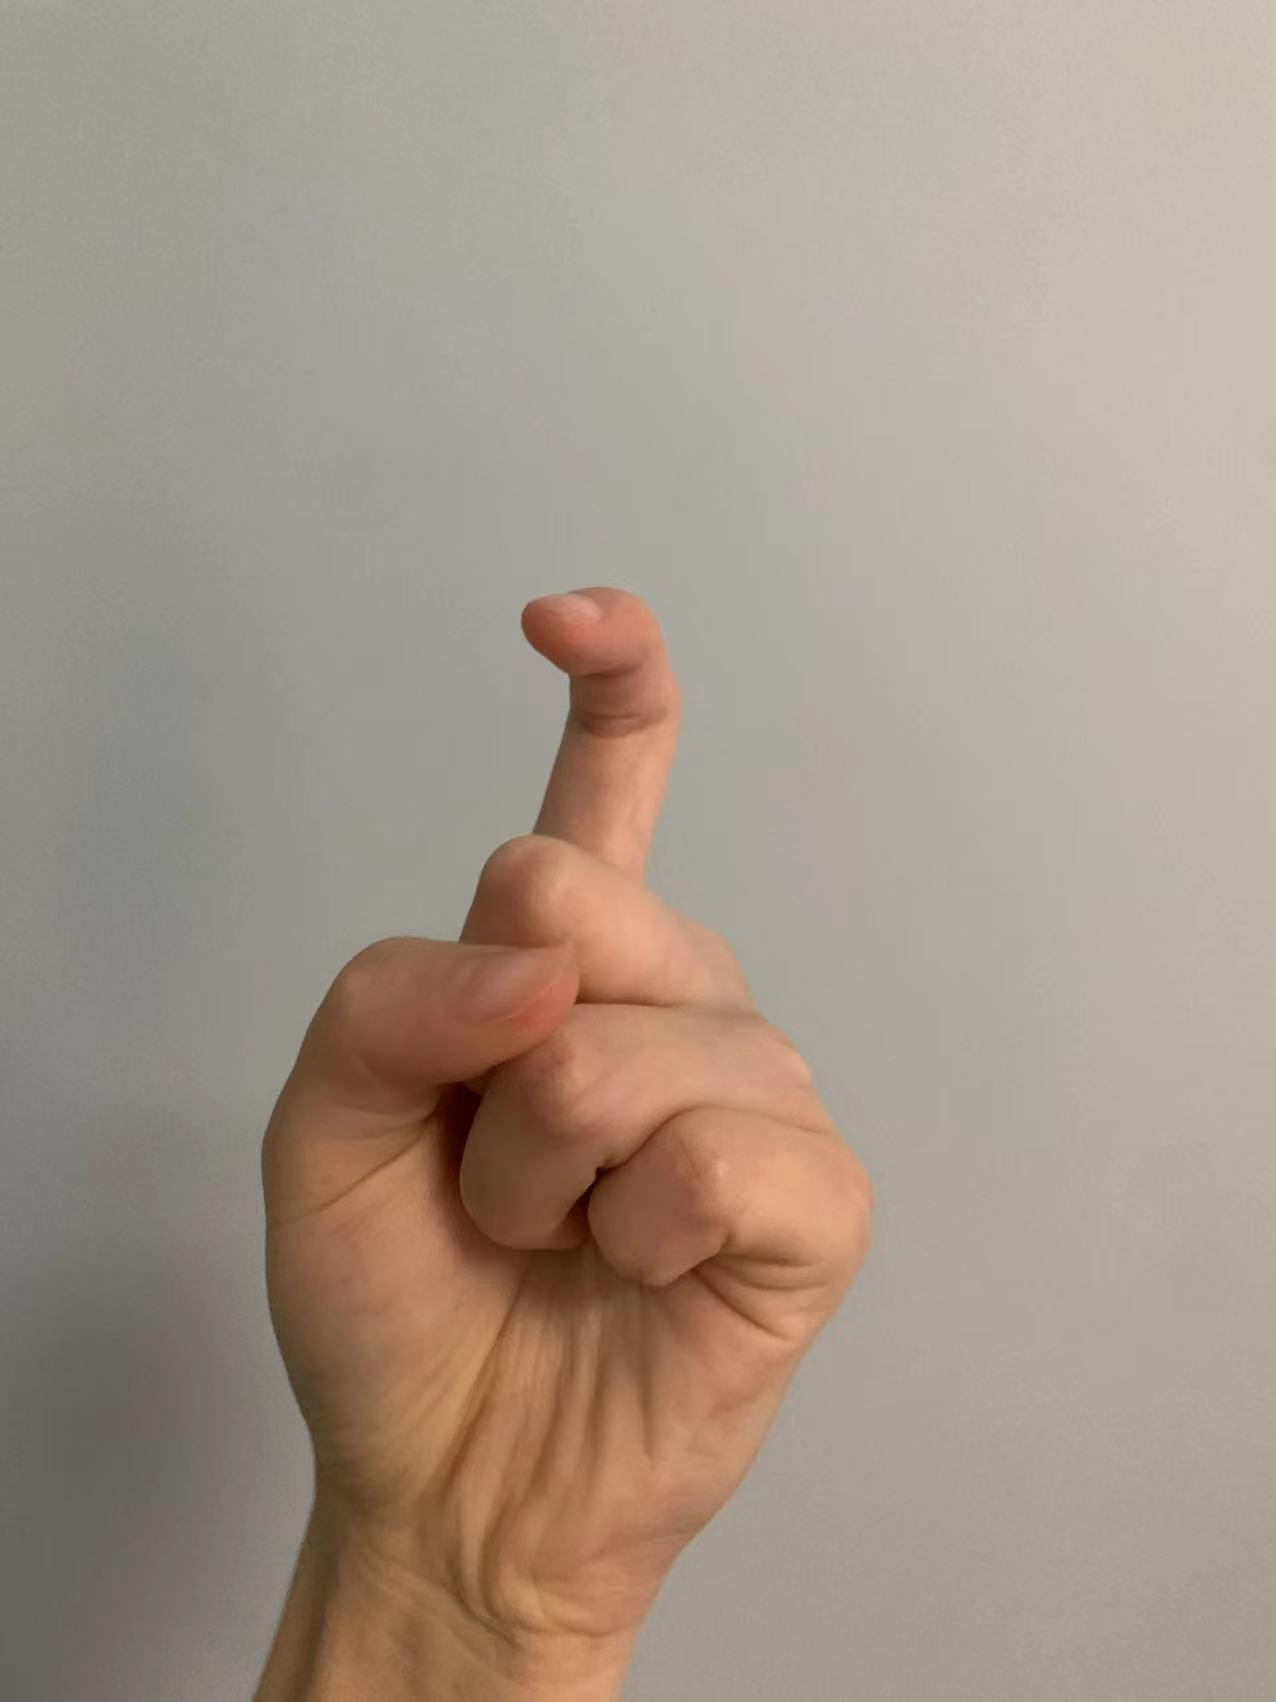anticlockwise: (225, 580, 898, 1514)
